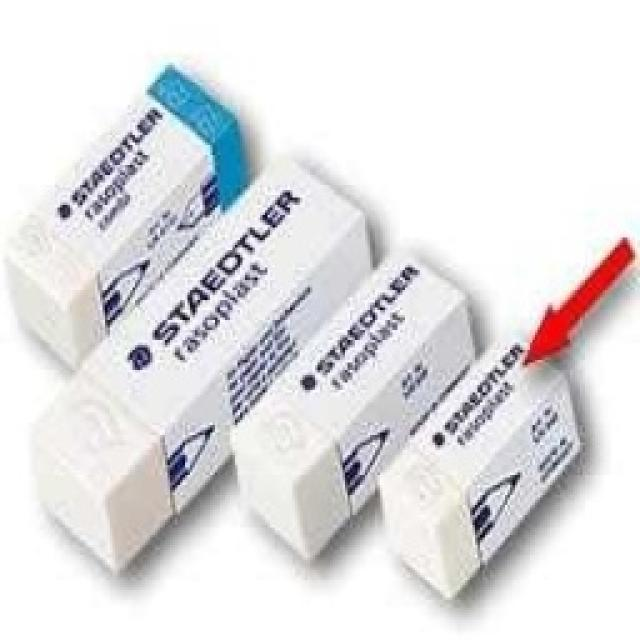Silgi: (8, 65, 252, 368)
